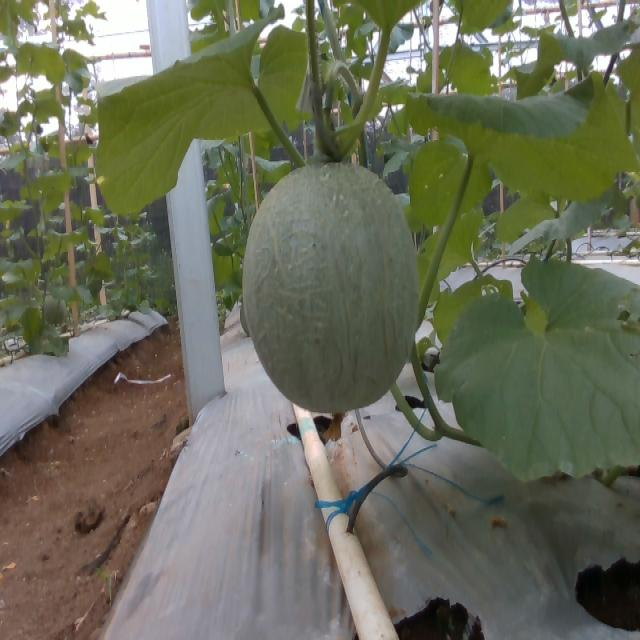melon: (244, 163, 419, 413)
